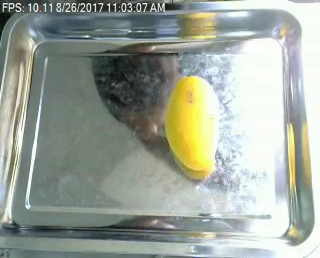Mango: (160, 70, 228, 175)
